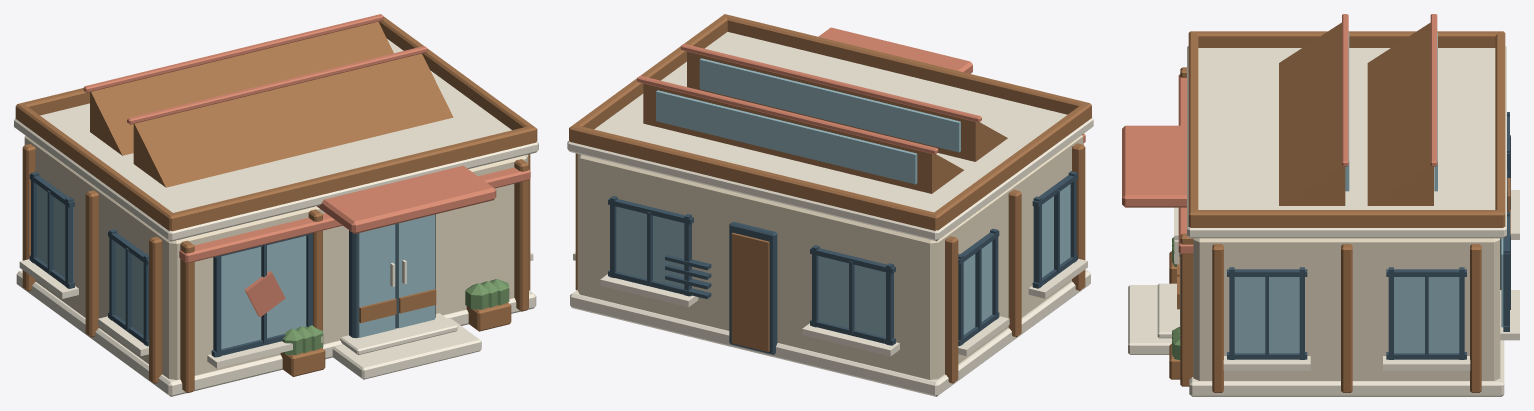
File: creative-l01.glb
The picture shows the model from 3 angles, left to right: view 1: azimuth 30°, elevation 25°; view 2: azimuth 150°, elevation 25°; view 3: azimuth 270°, elevation 25°; orthographic projection.
Visible parts, largest first — view 1: creative_L01; view 2: creative_L01; view 3: creative_L01.
Part boxes in pixels (box(x1,y1,x2,y2)): creative_L01: box(14, 14, 538, 396); creative_L01: box(567, 14, 1093, 396); creative_L01: box(1122, 14, 1519, 396).
Bounding box in the file's own units: 5.57 × 2.91 × 4.8.
